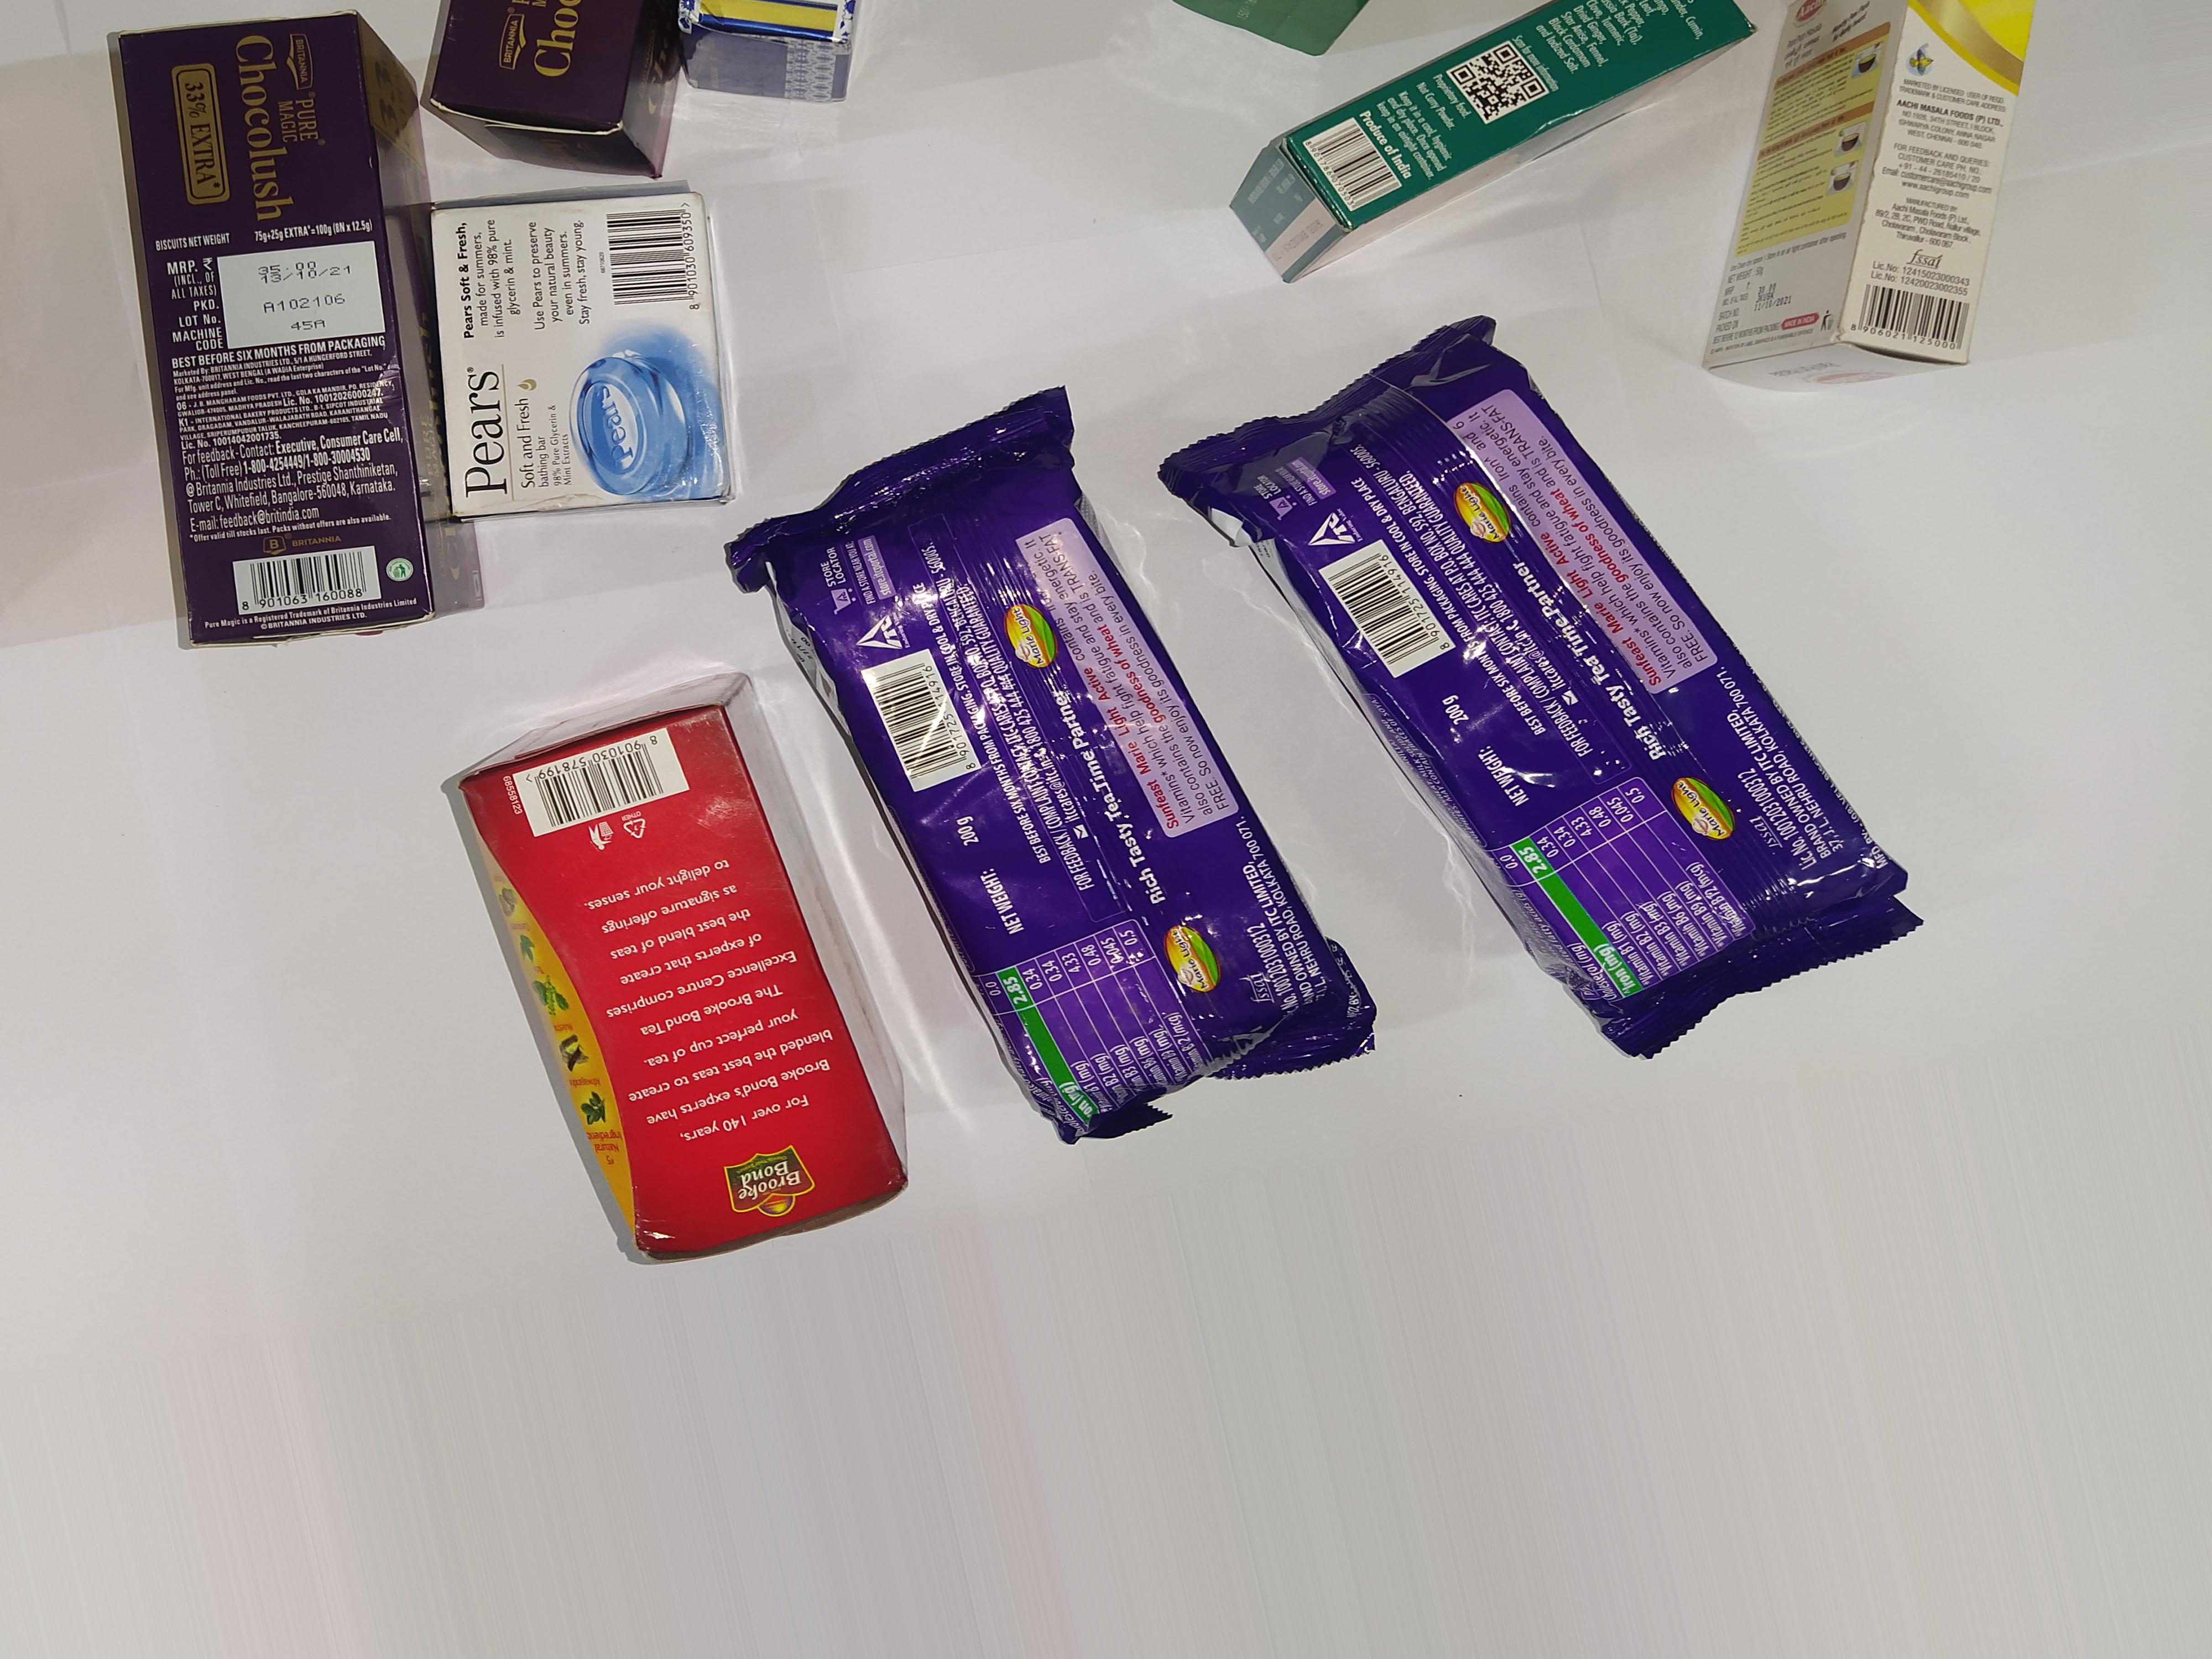Bar_code: (493, 727, 714, 843), (1306, 537, 1475, 688), (853, 648, 1014, 800), (219, 542, 406, 626), (1851, 267, 1986, 373), (599, 206, 714, 321), (1298, 118, 1418, 216)
Item: (1198, 315, 2006, 1082), (726, 404, 1355, 1155), (397, 659, 948, 1276), (63, 24, 474, 660), (1209, 7, 1759, 284), (408, 178, 759, 551), (1737, 0, 2041, 430), (418, 9, 691, 190), (655, 0, 890, 129)
QR_code: (1447, 40, 1554, 125)
